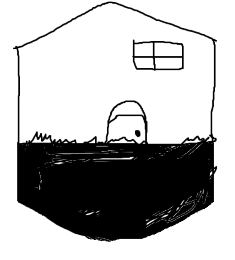closed_window: (127, 36, 188, 78)
door: (101, 97, 151, 152)
shadow: (12, 140, 220, 242)
single_line_roof: (4, 0, 224, 51)
wall: (12, 38, 223, 147)
